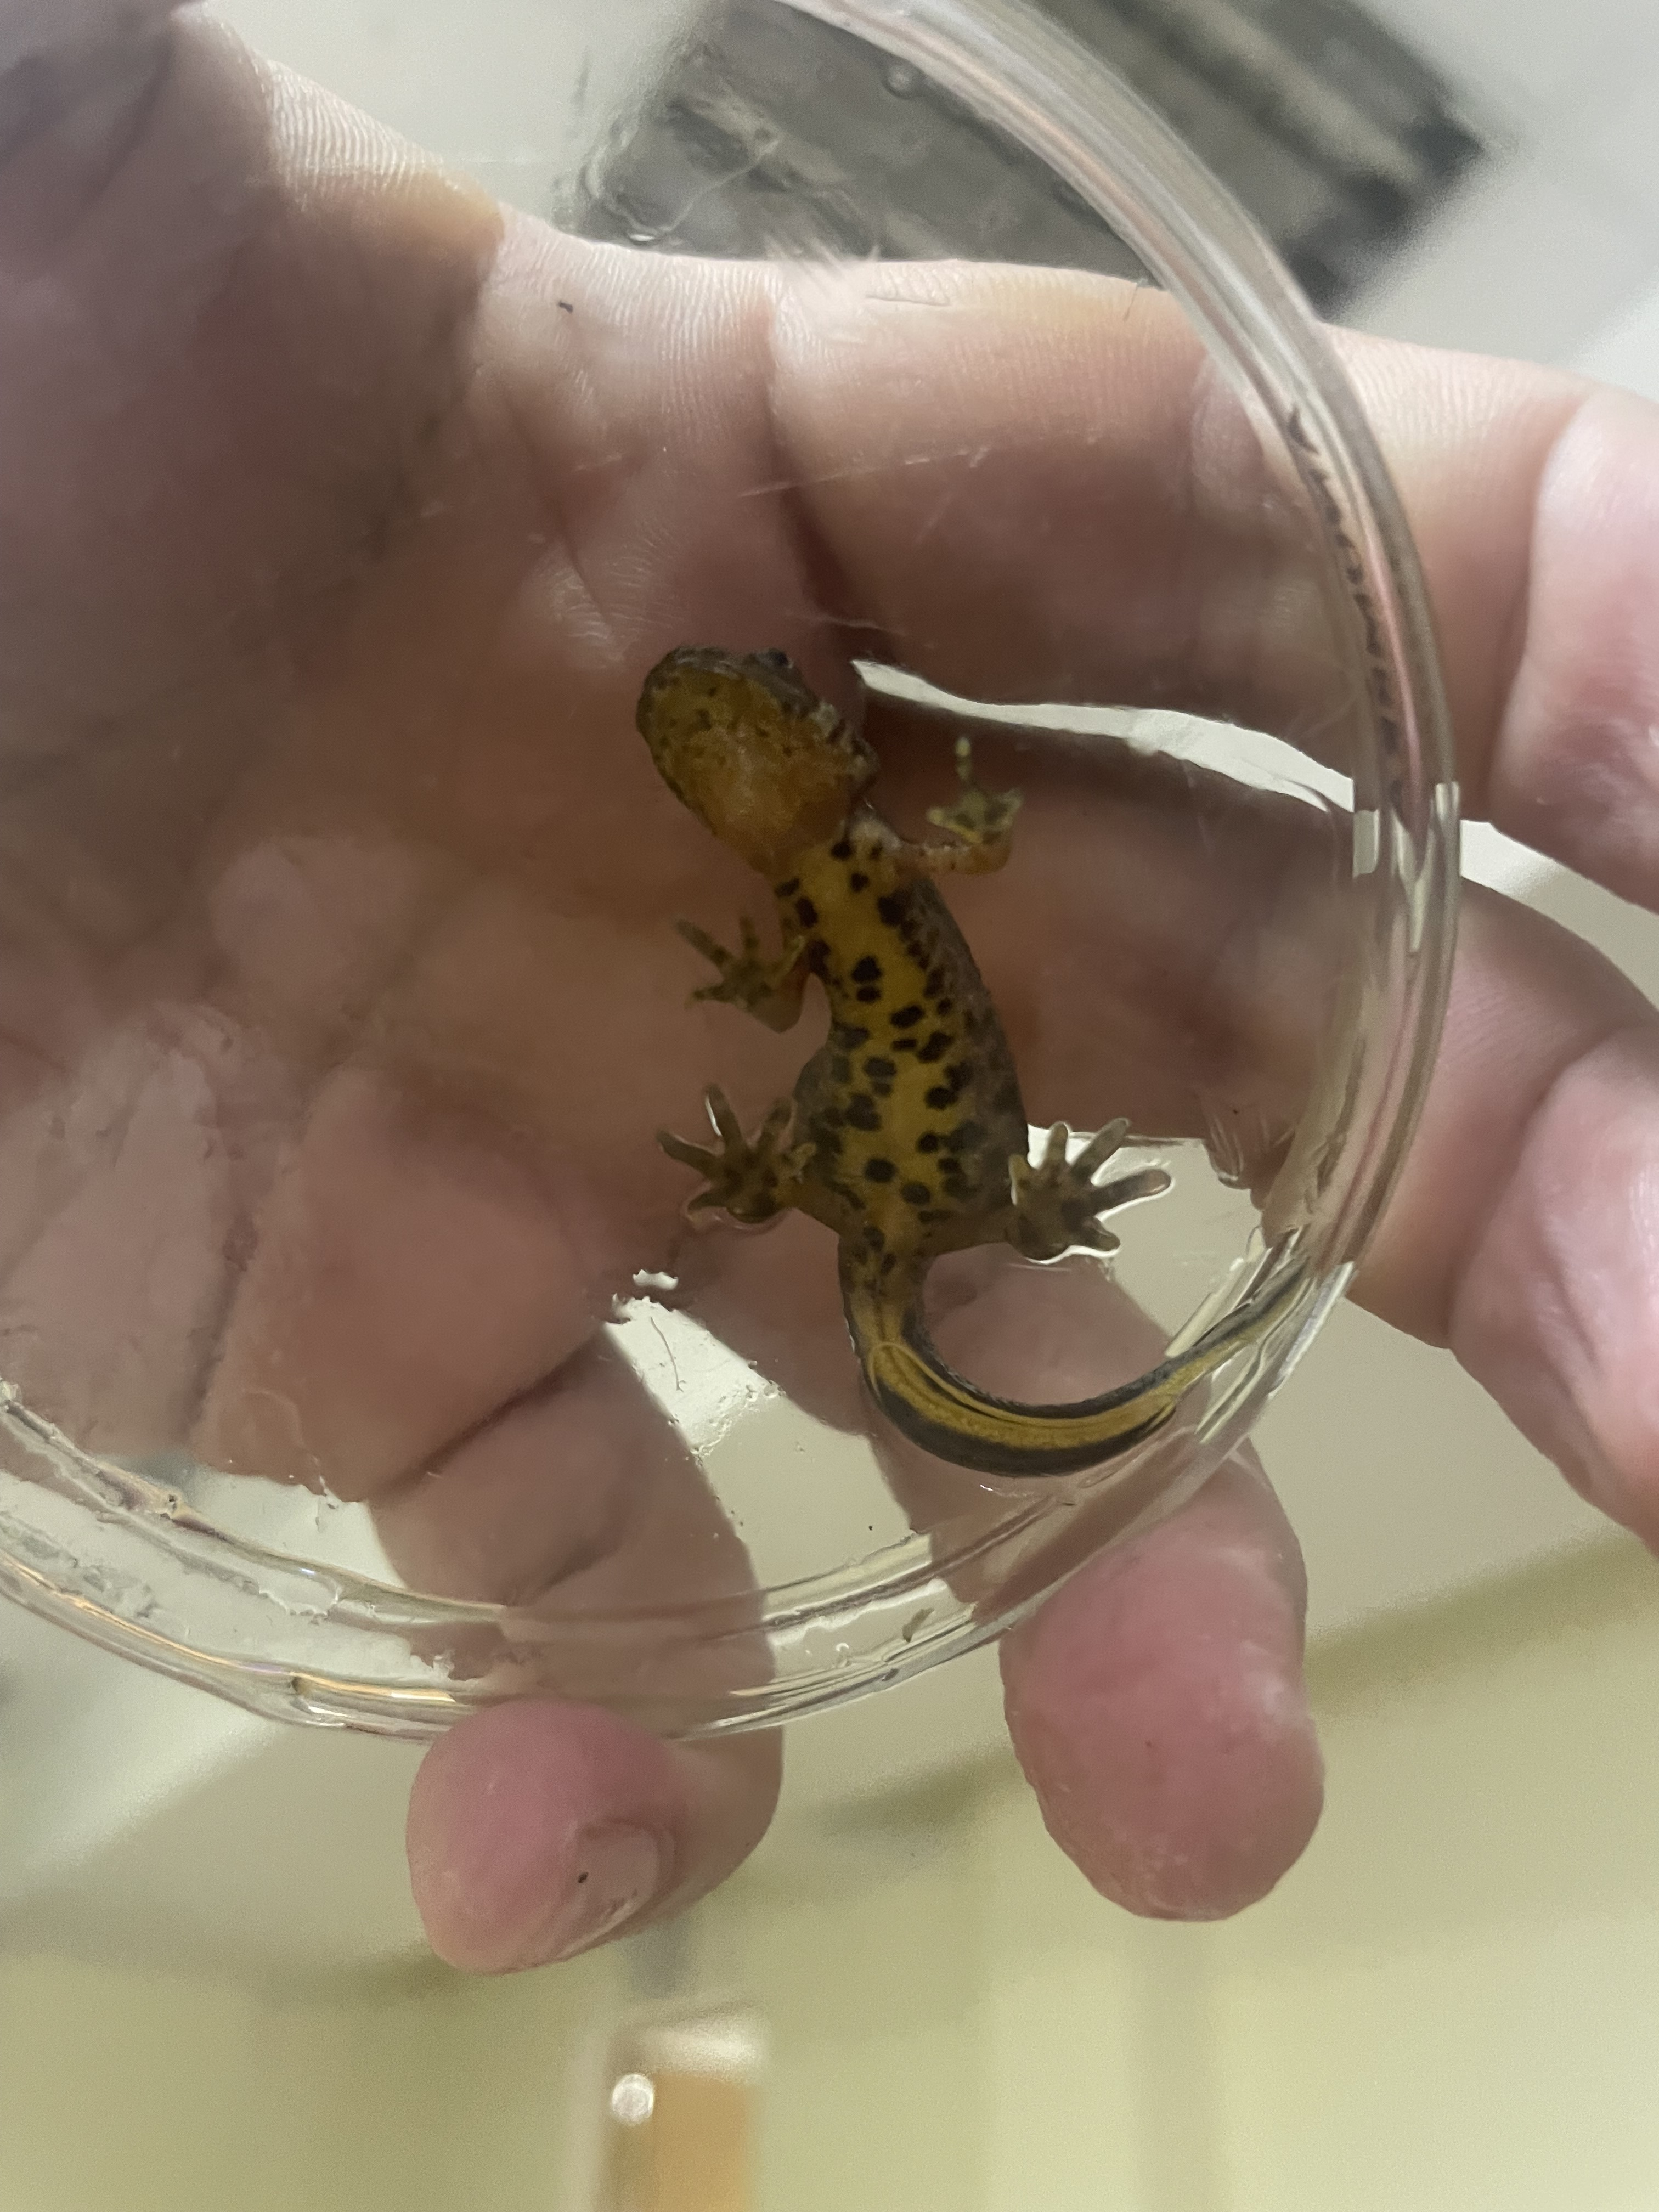Karelin_newt: (791, 876, 1026, 1197)
